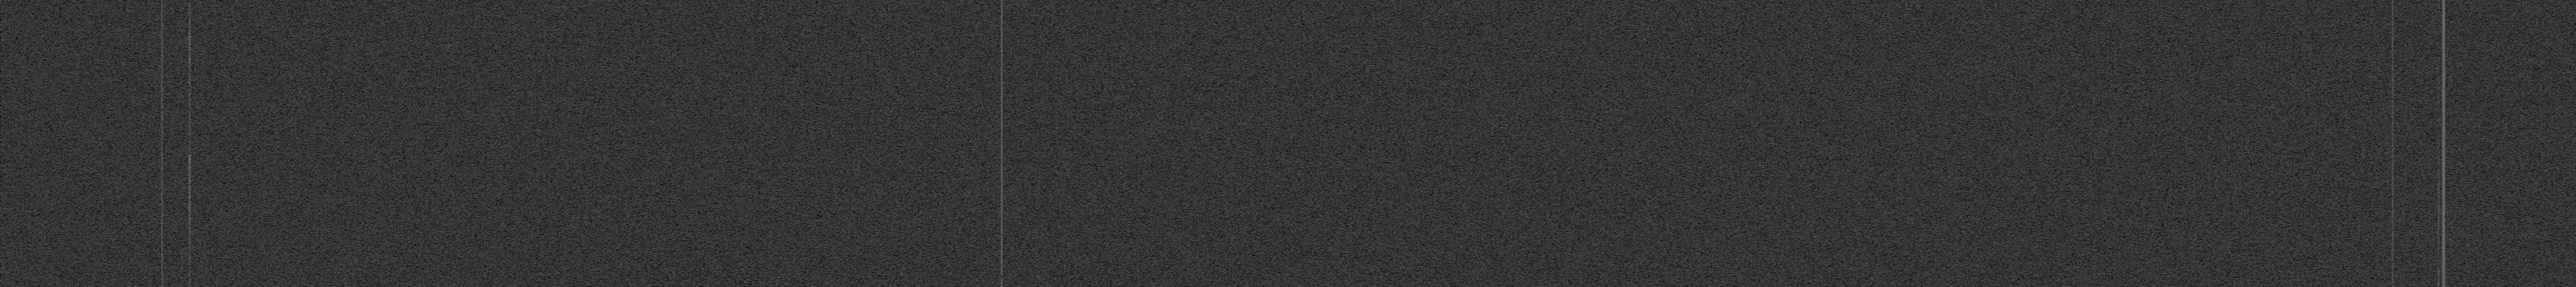wv_am: (161, 0, 164, 287), (2390, 0, 2394, 287), (1000, 0, 1004, 276), (1000, 277, 1004, 287)
wv_cw: (2441, 0, 2446, 287), (2441, 0, 2445, 287)
wv_lsb: (187, 3, 192, 246), (2436, 139, 2440, 231), (2436, 233, 2440, 287), (187, 248, 191, 287), (2436, 57, 2440, 84), (2436, 97, 2440, 118), (2436, 39, 2440, 56), (2436, 121, 2440, 136), (2436, 84, 2440, 97), (2438, 15, 2440, 31), (2436, 118, 2440, 121), (2436, 136, 2440, 139), (2438, 33, 2440, 38), (2438, 3, 2440, 8), (2438, 10, 2440, 13)
wv_usb: (181, 253, 184, 271), (181, 41, 182, 74), (181, 3, 182, 34), (181, 90, 182, 105), (181, 277, 182, 285), (181, 159, 182, 166), (181, 34, 182, 41), (181, 197, 182, 202), (181, 189, 182, 194), (181, 153, 182, 157), (181, 110, 182, 115), (181, 74, 182, 79), (181, 272, 182, 276), (181, 221, 182, 225), (181, 212, 182, 215), (181, 182, 182, 185), (181, 169, 182, 172), (181, 139, 182, 143), (181, 118, 182, 121), (181, 115, 182, 118), (181, 82, 182, 85), (181, 228, 182, 230), (181, 210, 182, 212), (181, 207, 182, 208), (181, 195, 182, 197), (181, 175, 182, 177), (181, 149, 182, 151), (181, 144, 182, 146), (181, 134, 182, 136), (181, 79, 182, 80)
